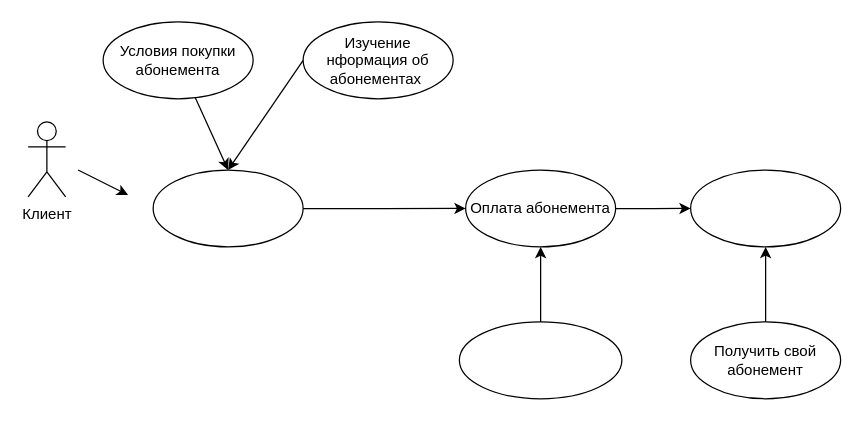
The diagram is 863 pixels wide and 421 high, and some of its shapes have lost their labels. The shapes that lost their labels are listed below. From the top down, each one's centre as x and y in pixels, then its label:
the point at 227,208: Зарегистрироваться
the point at 765,208: Приступать к занятиям
the point at 540,360: Ввод данных банковской карточки
